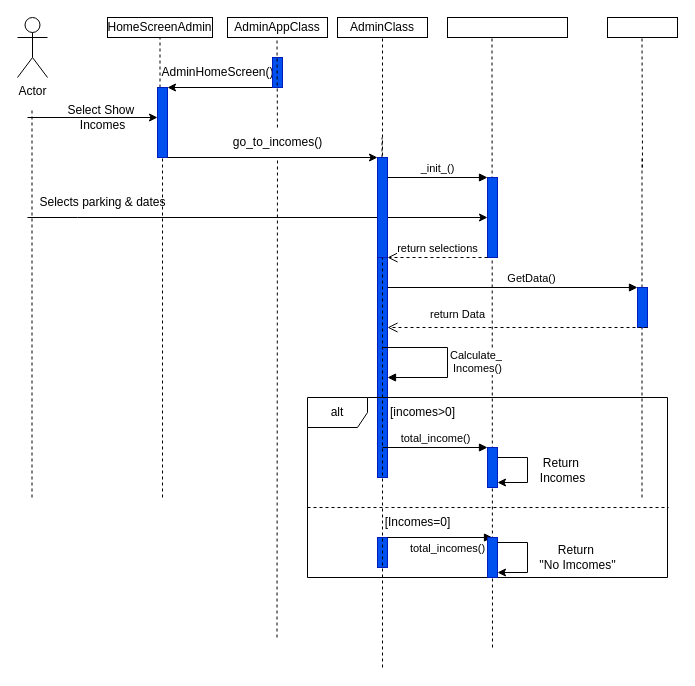
Some shapes in this 695 by 686 pixel diagram are drawn without their labels. The shapes that lost their labels are listed below. From the top down, each one's centre as x and y in pixels, then its label:
At point (507, 27): "IncomesScreen".
At point (642, 27): "DB".
